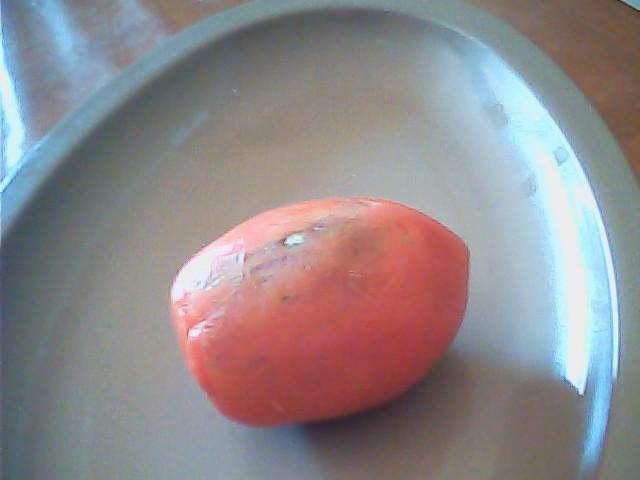defectuoso: (169, 195, 471, 426)
